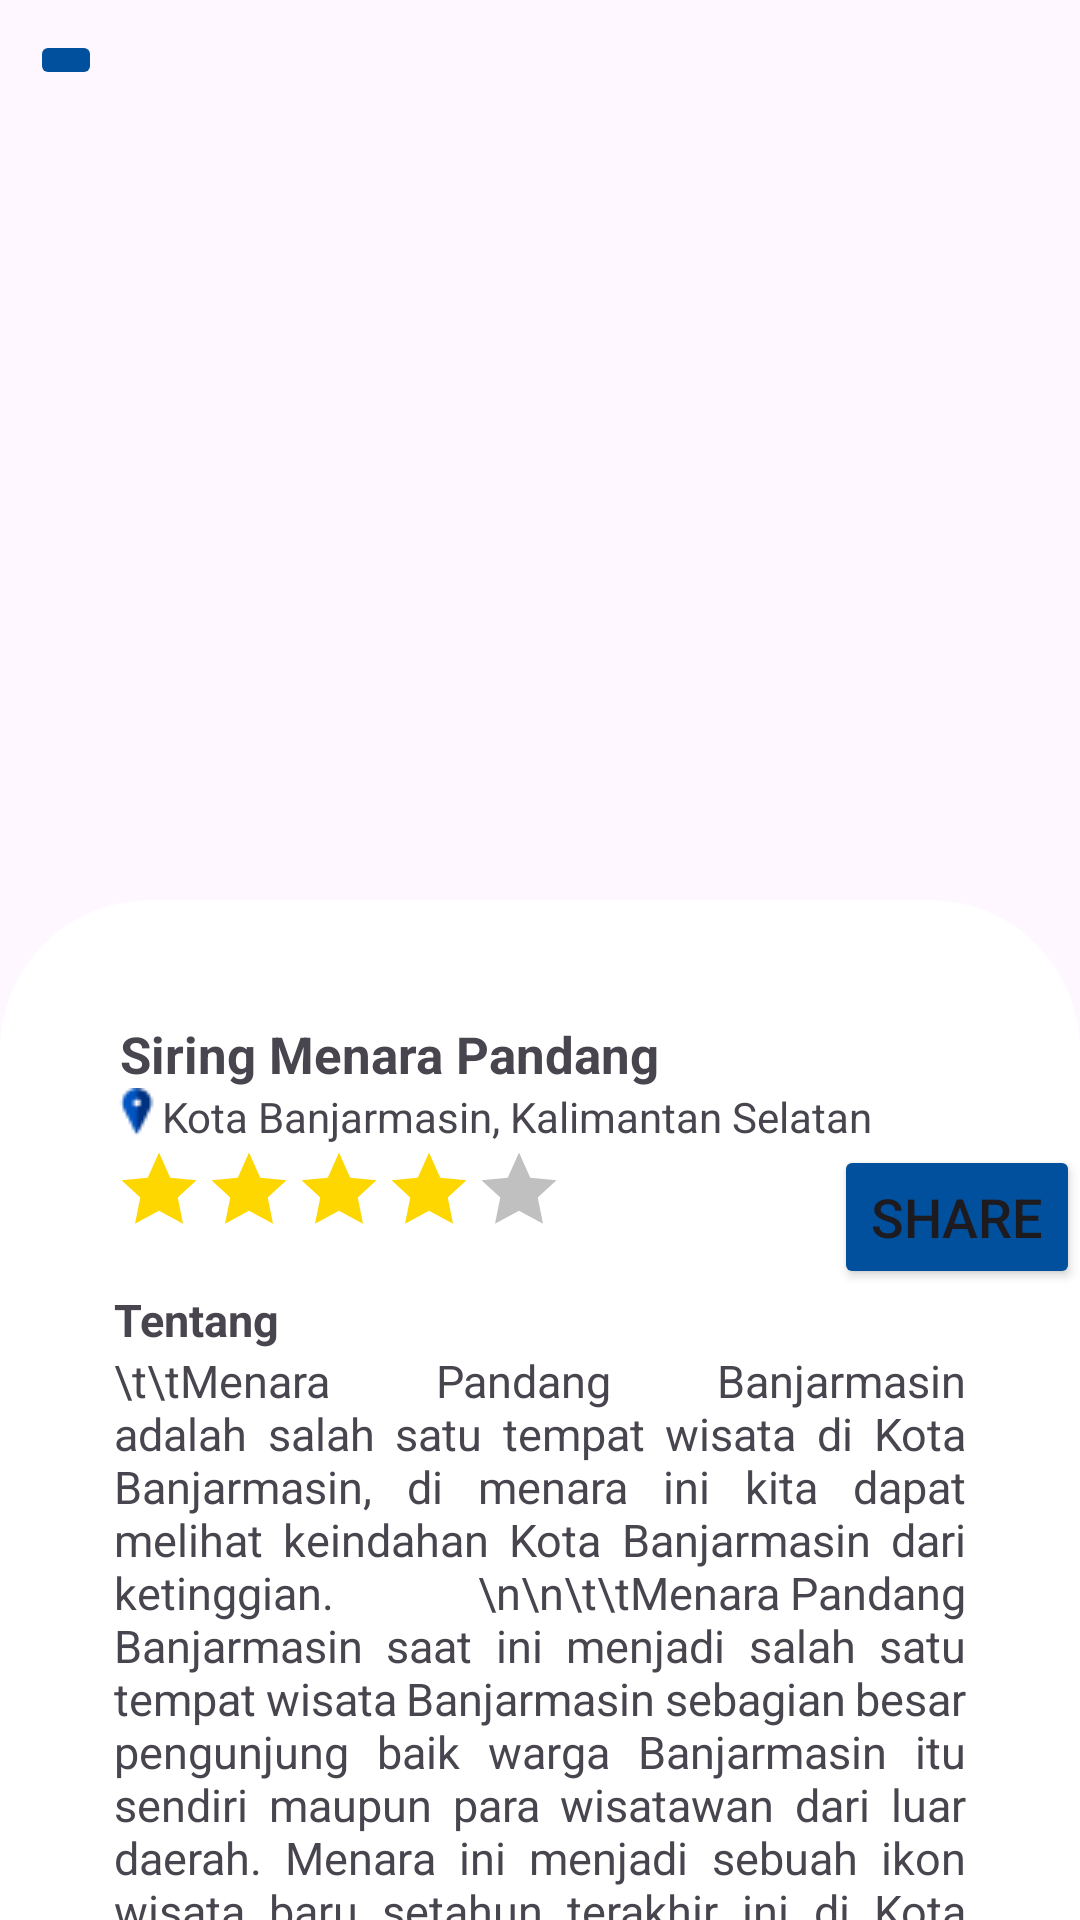

Screen size 1080px x 1920px. Icon name, then its box in pixels as [x1=x1, y1=y1, x2=x2, y2=y2]:
pinloc: [x1=121, y1=1088, x2=154, y2=1134]
star empty: [x1=482, y1=1153, x2=556, y2=1224]
star full: [x1=121, y1=1153, x2=197, y2=1224], [x1=211, y1=1153, x2=287, y2=1224], [x1=301, y1=1153, x2=377, y2=1224], [x1=391, y1=1153, x2=467, y2=1224]
